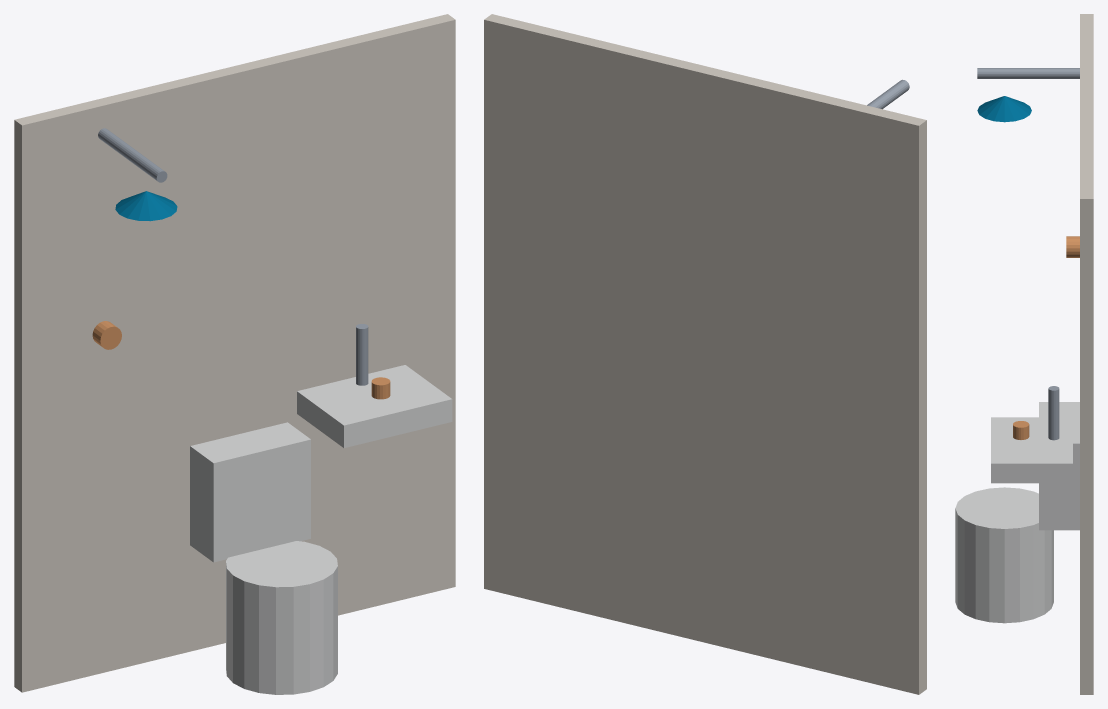
3 views of the same model, side by side, from view 1: azimuth 30°, elevation 25°; view 2: azimuth 150°, elevation 25°; view 3: azimuth 270°, elevation 25° (orthographic). The views are drawn at different scales.
Visible parts, largest first — view 1: muro, part_inodoro, part_aireador, part_regadera; view 2: muro; view 3: part_inodoro, muro, part_aireador, part_regadera, part_valvula.
Part boxes in pixels (left/top/right/bottom): muro: left=14, top=14, right=455, bottom=692; part_inodoro: left=190, top=422, right=337, bottom=694; part_aireador: left=297, top=324, right=452, bottom=447; part_regadera: left=98, top=128, right=177, bottom=221; muro: left=484, top=14, right=926, bottom=694; part_inodoro: left=955, top=402, right=1079, bottom=623; muro: left=1080, top=14, right=1093, bottom=694; part_aireador: left=991, top=386, right=1072, bottom=483; part_regadera: left=977, top=68, right=1079, bottom=122; part_valvula: left=1066, top=236, right=1079, bottom=257.
Bounding box in the file's own units: 1.6 × 2 × 0.505.
